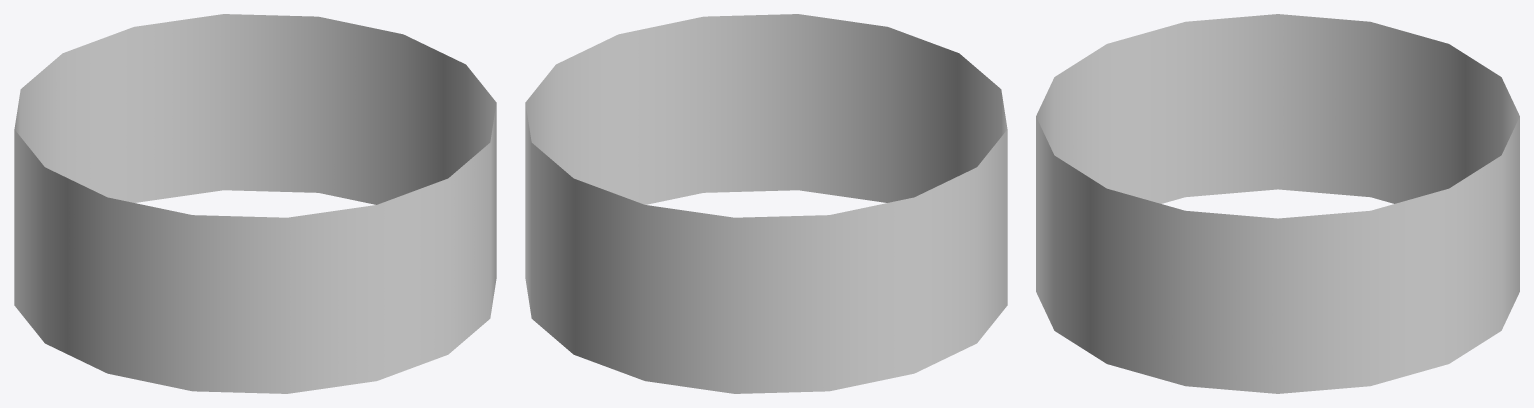
Rendered from godclient_npc_spawn_05m.fbx.
3 renders of one model, left to right at view 1: azimuth 30°, elevation 25°; view 2: azimuth 150°, elevation 25°; view 3: azimuth 270°, elevation 25°, orthographic.
Visible parts, largest first — view 1: mesh_node; view 2: mesh_node; view 3: mesh_node.
Boxes of the visible parts, box(x1,y1,x2,y2) form: mesh_node: box(14, 14, 496, 393); mesh_node: box(525, 14, 1007, 393); mesh_node: box(1036, 14, 1519, 393).
Bounding box in the file's own units: 5 × 2 × 5.
1 material, 1 textured.
